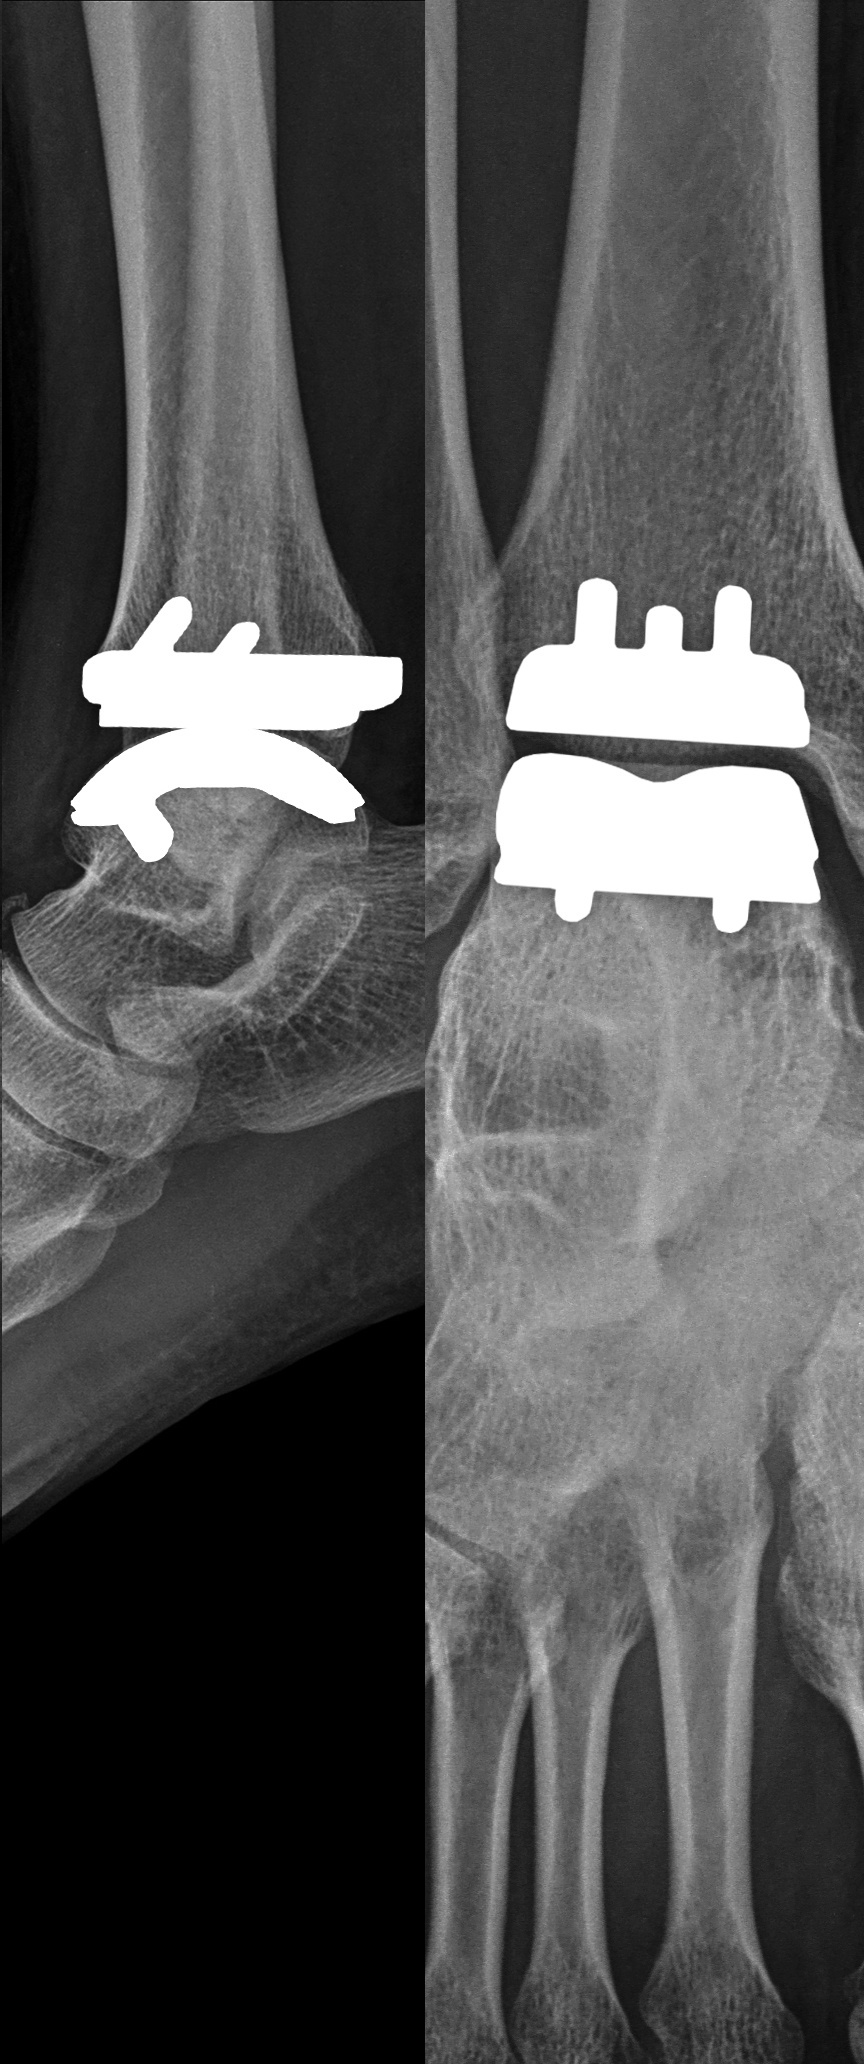Ankle - Infinity - Wright: (485, 566, 827, 948), (54, 590, 400, 871)
